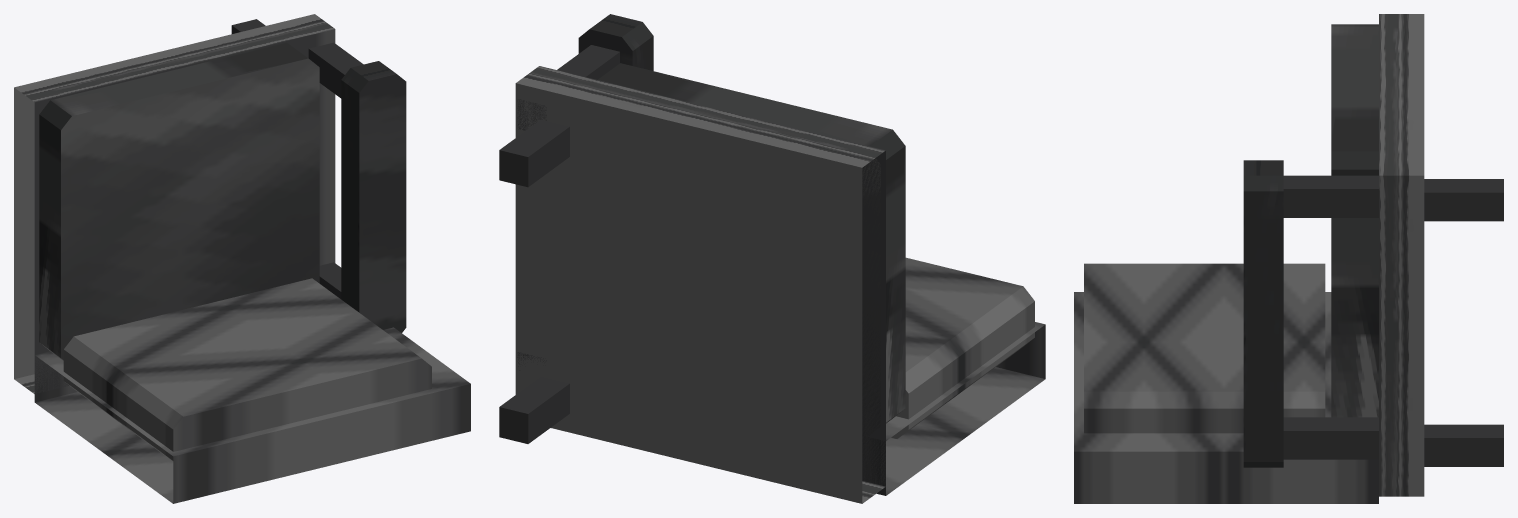
The model's file is pz_sofa_seating_indoor_03_victorian_c4_1_0.obj.
The picture shows the model from 3 angles, left to right: view 1: azimuth 30°, elevation 25°; view 2: azimuth 150°, elevation 25°; view 3: azimuth 270°, elevation 25°; orthographic projection. The views are drawn at different scales.
Bounding box in the file's own units: 0.99 × 0.915 × 1.08.
1 material, 1 textured.
